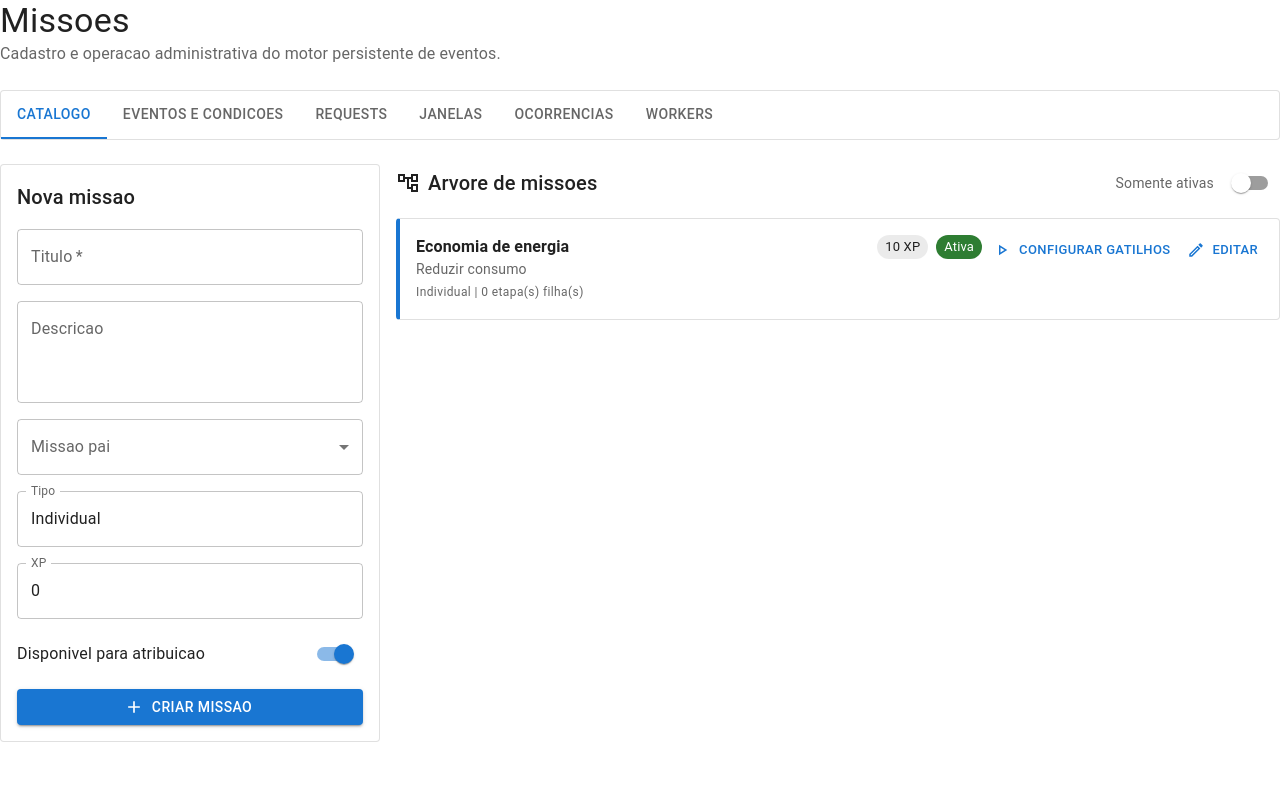
Test: MissionsAdminPage › mostra janelas e evidencias
Click the tab "Janelas" at (451, 115), box [403,91,498,139]
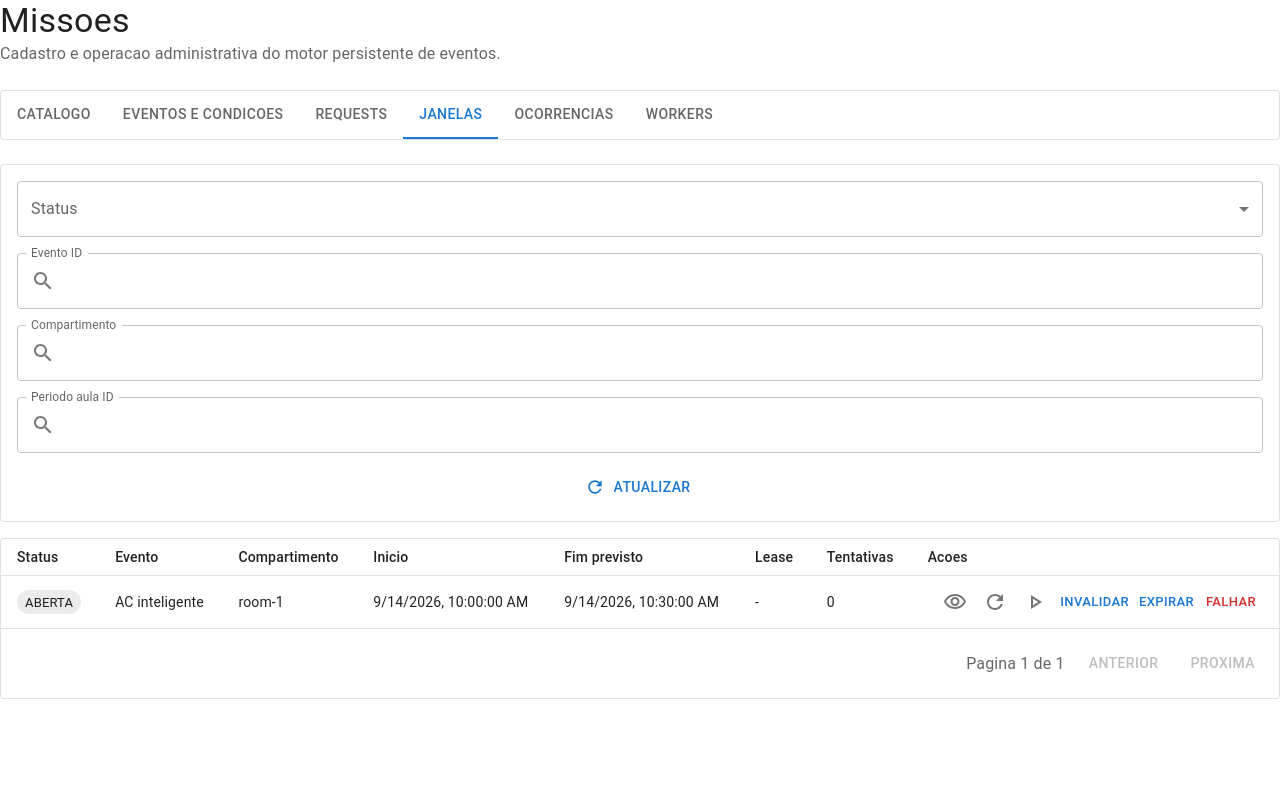
Check: the text "AC inteligente" is shown, box [99,576,222,629]
Click the button named "Ver evidencias da janela window-1" at (955, 602), box [935,582,975,622]
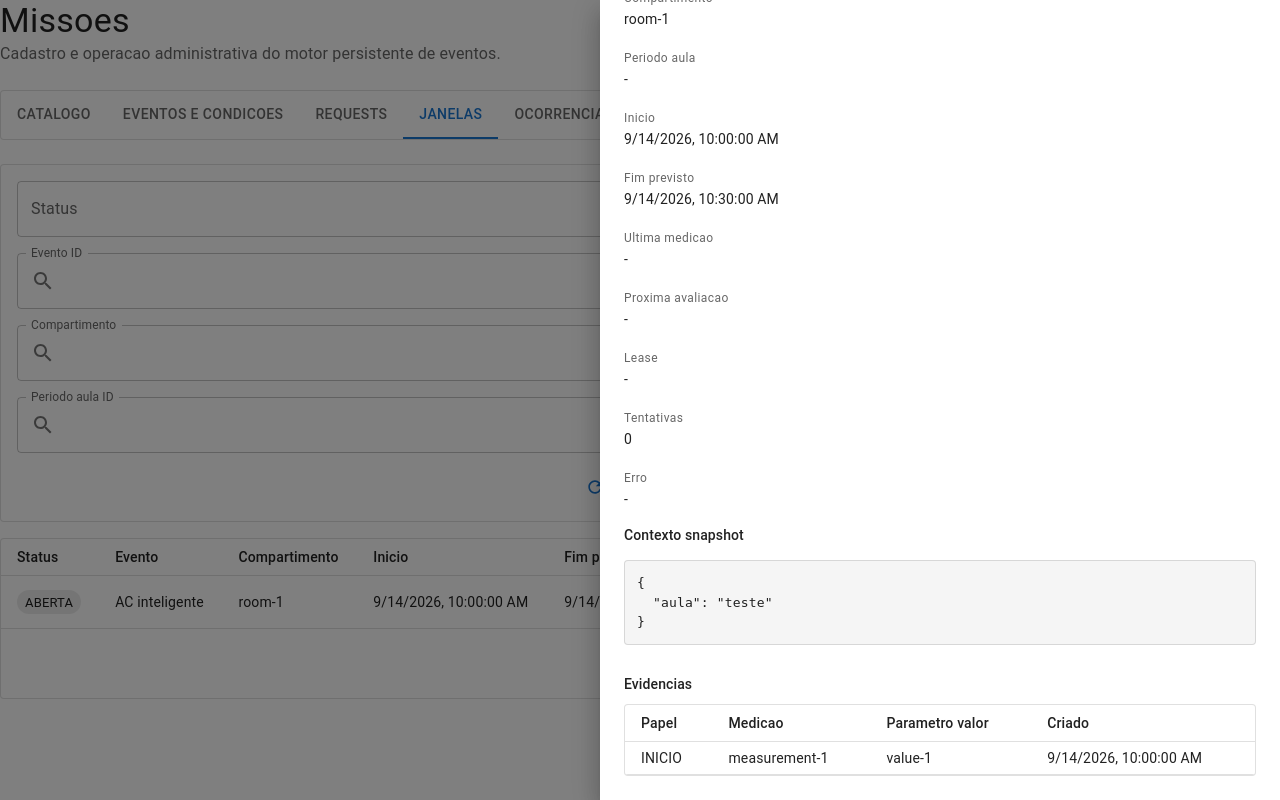
Check: the text "INICIO" is shown, box [625,741,712,774]
